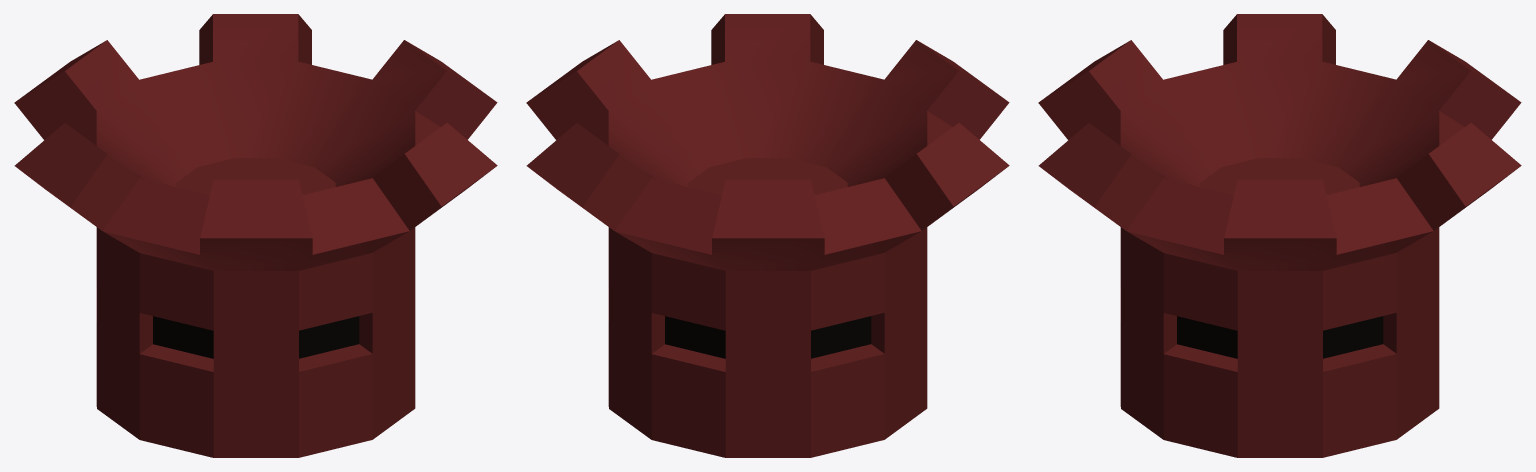
The model's file is PhysicalTower.obj.
3 renders of one model, left to right at view 1: azimuth 30°, elevation 25°; view 2: azimuth 150°, elevation 25°; view 3: azimuth 270°, elevation 25°, orthographic.
Parts seen in each view (by area): view 1: pCylinder1; view 2: pCylinder1; view 3: pCylinder1.
Boxes of the visible parts, x1,y1,x2,y2 form: pCylinder1: (14,14,497,457); pCylinder1: (526,14,1009,457); pCylinder1: (1038,14,1521,457).
Bounding box in the file's own units: 2.99 × 1.97 × 2.93.
